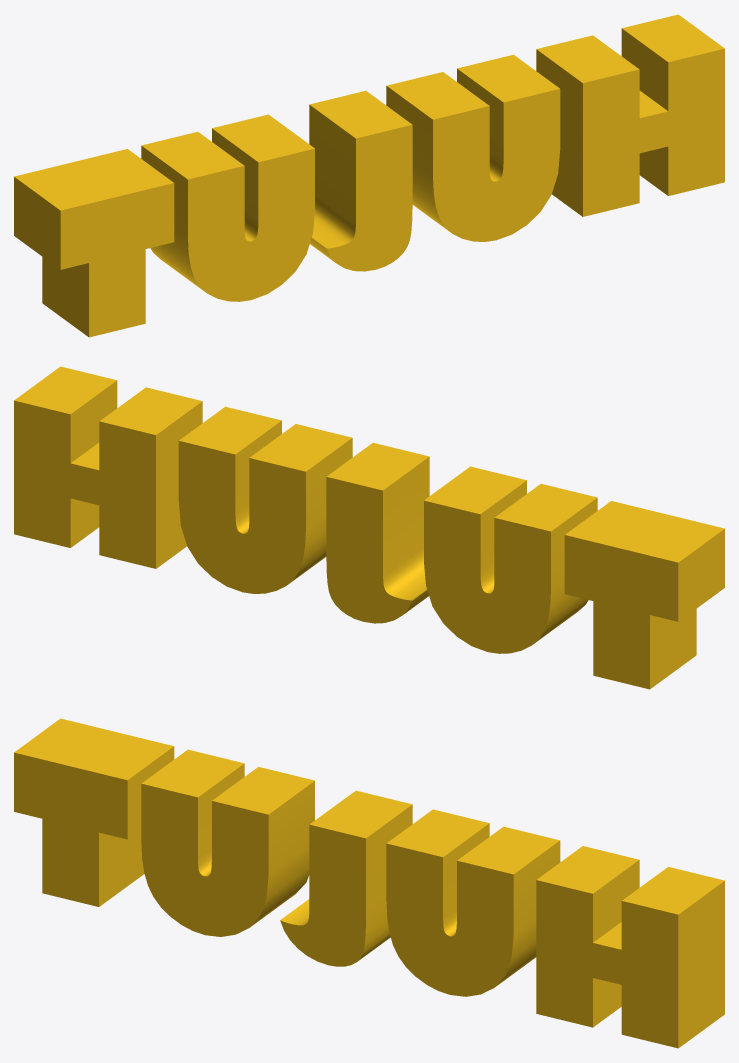
The picture shows the model from 3 angles, top to bottom: view 1: azimuth 30°, elevation 25°; view 2: azimuth 150°, elevation 25°; view 3: azimuth 330°, elevation 25°; orthographic projection.
Visible parts, largest first — view 1: node_id202; view 2: node_id202; view 3: node_id202.
Boxes of the visible parts, left/top/right/bottom form: node_id202: left=14, top=14, right=724, bottom=337; node_id202: left=14, top=366, right=724, bottom=689; node_id202: left=14, top=718, right=724, bottom=1048.
Bounding box in the file's own units: 0.1236 × 0.0242 × 0.015.
